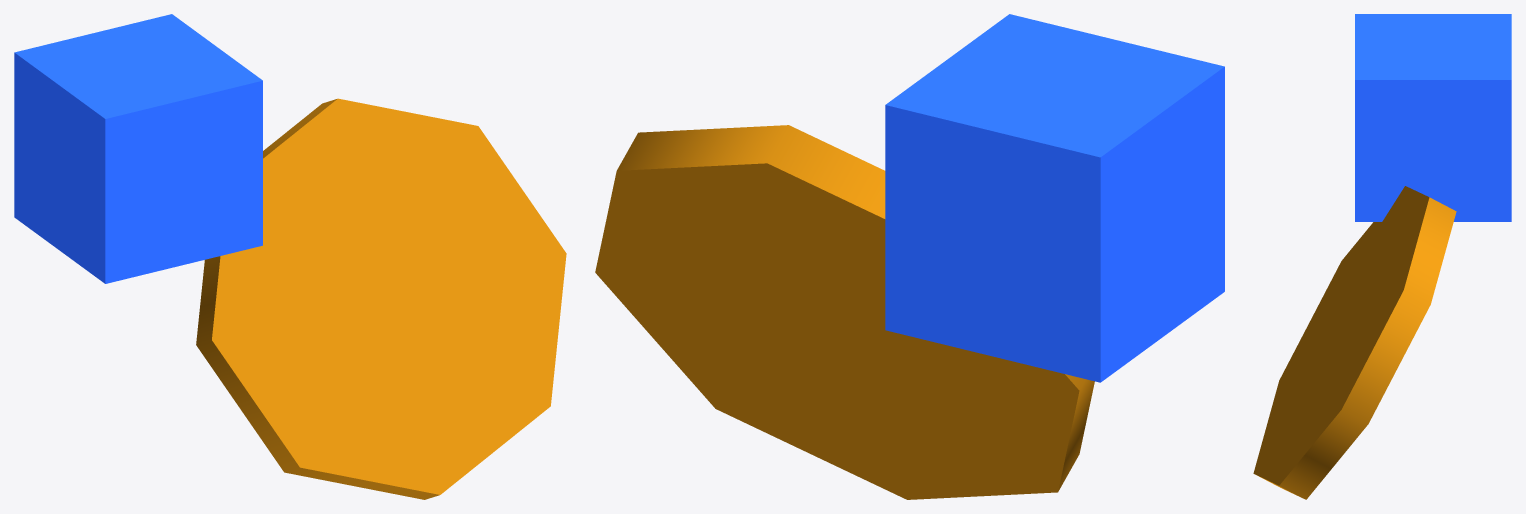
The model's file is create.glb.
3 views of the same model, side by side, from view 1: azimuth 30°, elevation 25°; view 2: azimuth 150°, elevation 25°; view 3: azimuth 270°, elevation 25° (orthographic). The views are drawn at different scales.
Bounding box in the file's own units: 1.15 × 1.01 × 0.6596.
